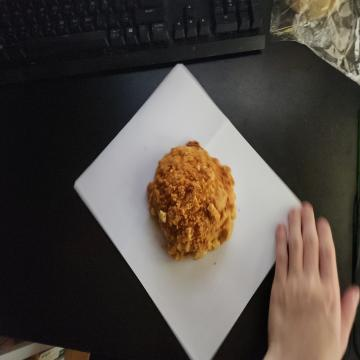soboru_bread: (147, 139, 236, 258)
